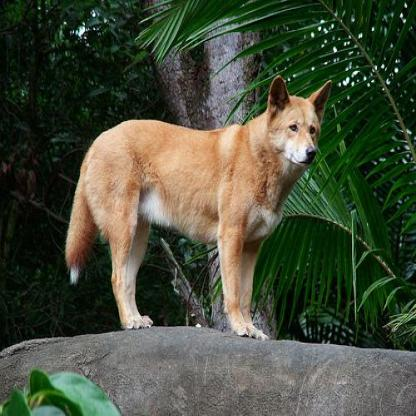dingo: (63, 75, 336, 358)
